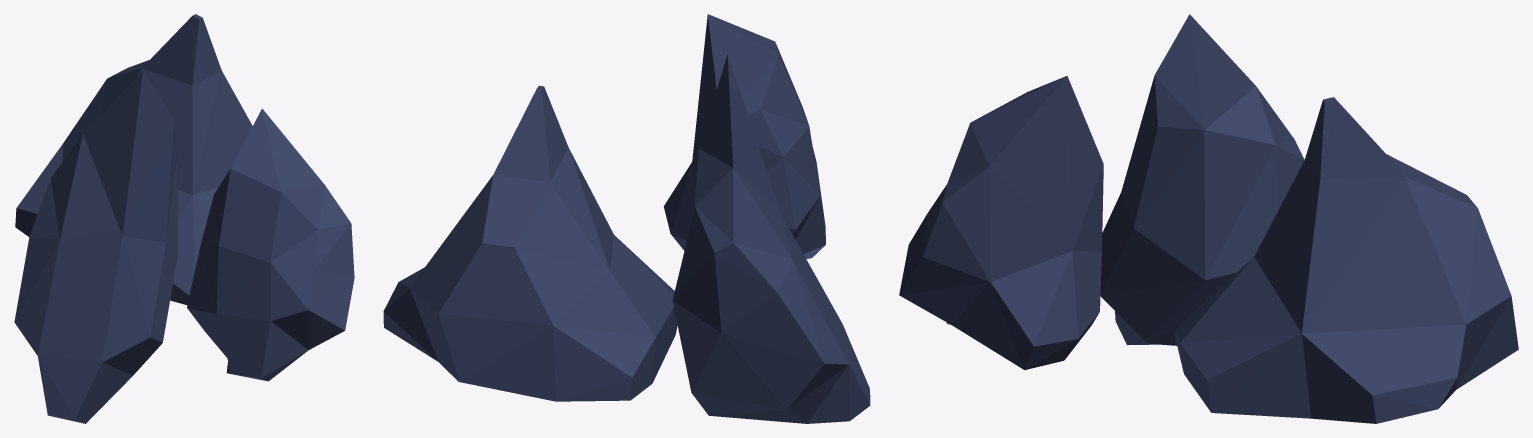
Rendered from Spikestone 1.fbx.
3 views of the same model, side by side, from view 1: azimuth 30°, elevation 25°; view 2: azimuth 150°, elevation 25°; view 3: azimuth 270°, elevation 25° (orthographic). The views are drawn at different scales.
Parts seen in each view (by area): view 1: Spikestone Size 1; view 2: Spikestone Size 1; view 3: Spikestone Size 1.
Boxes of the visible parts, left/top/right/bottom form: Spikestone Size 1: left=14, top=14, right=354, bottom=423; Spikestone Size 1: left=383, top=14, right=870, bottom=423; Spikestone Size 1: left=899, top=14, right=1518, bottom=423.
Bounding box in the file's own units: 112 × 100 × 148.
